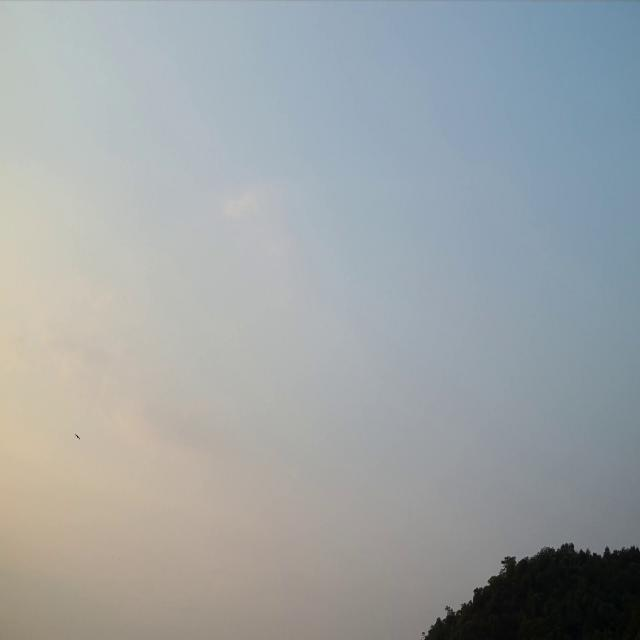drone: (74, 432, 80, 440)
